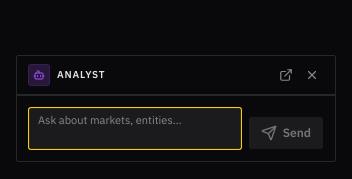
Test: AskAiPanel — SSE streaming › accumulates tokens from the SSE stream
Step 1. Type "Test question" into the text box with placeholder "Ask about markets, entities…" → (135, 129), box [29, 108, 241, 149]
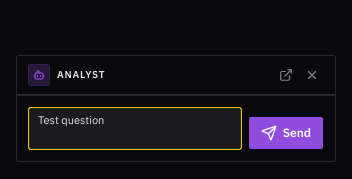
Step 2. Click the button with aria-label "send message" → (286, 133), box [249, 117, 323, 149]
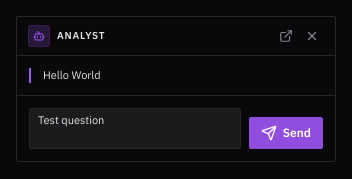
Expected: the text "Hello World" is shown, [43, 68, 101, 82]
